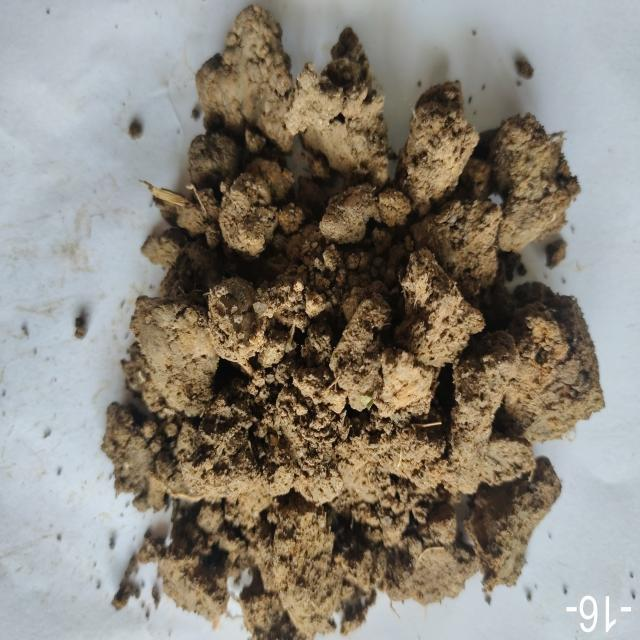soil: (236, 135, 468, 508)
